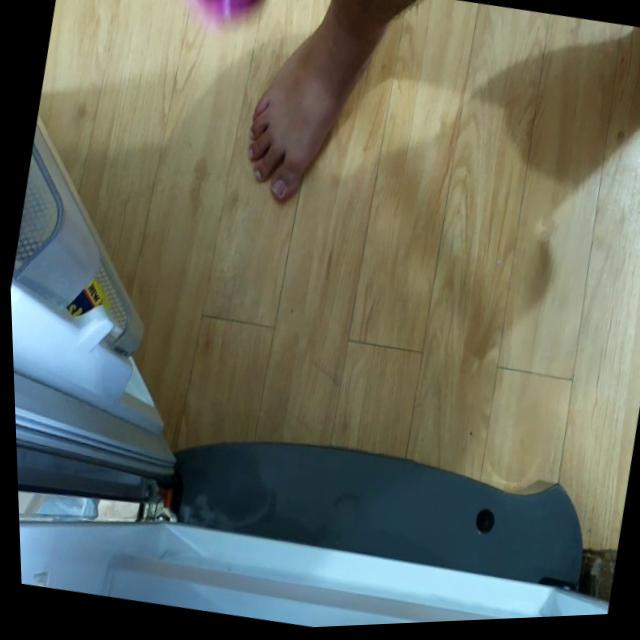onion: (183, 0, 271, 33)
